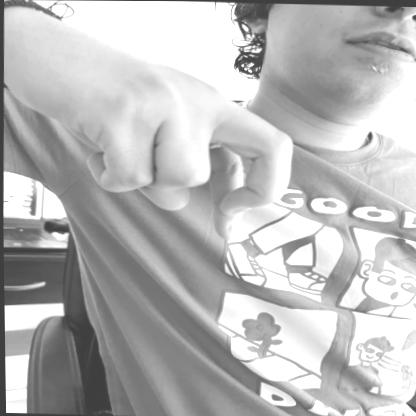P: (12, 5, 295, 246)
